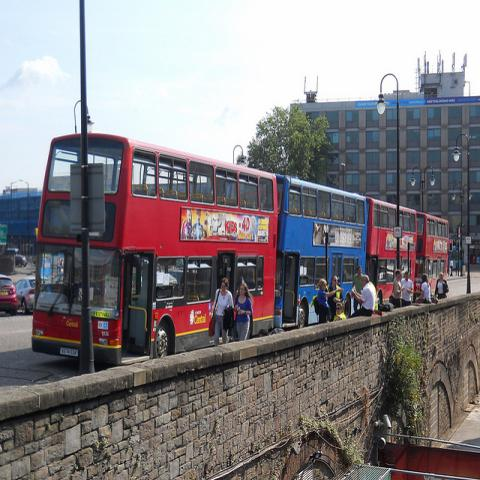bus: (33, 133, 278, 369), (282, 171, 375, 328), (413, 211, 449, 302), (370, 203, 400, 305)
car: (15, 278, 34, 314), (0, 276, 18, 313), (5, 248, 27, 268)
